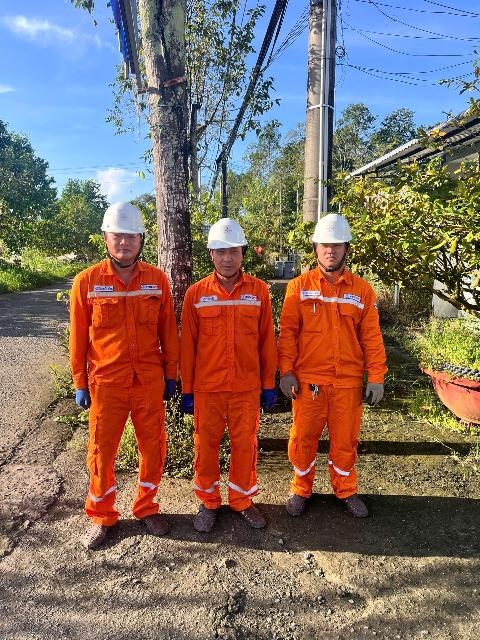gloves: (66, 380, 98, 412), (361, 374, 385, 408), (279, 368, 301, 400), (255, 384, 281, 407), (162, 376, 182, 401), (180, 390, 196, 416)
helmet: (80, 199, 155, 244), (312, 201, 358, 256), (202, 207, 250, 258)
shoes: (229, 495, 273, 532), (138, 503, 178, 542), (333, 484, 374, 521), (78, 519, 123, 552), (191, 495, 220, 534), (282, 486, 313, 517)
